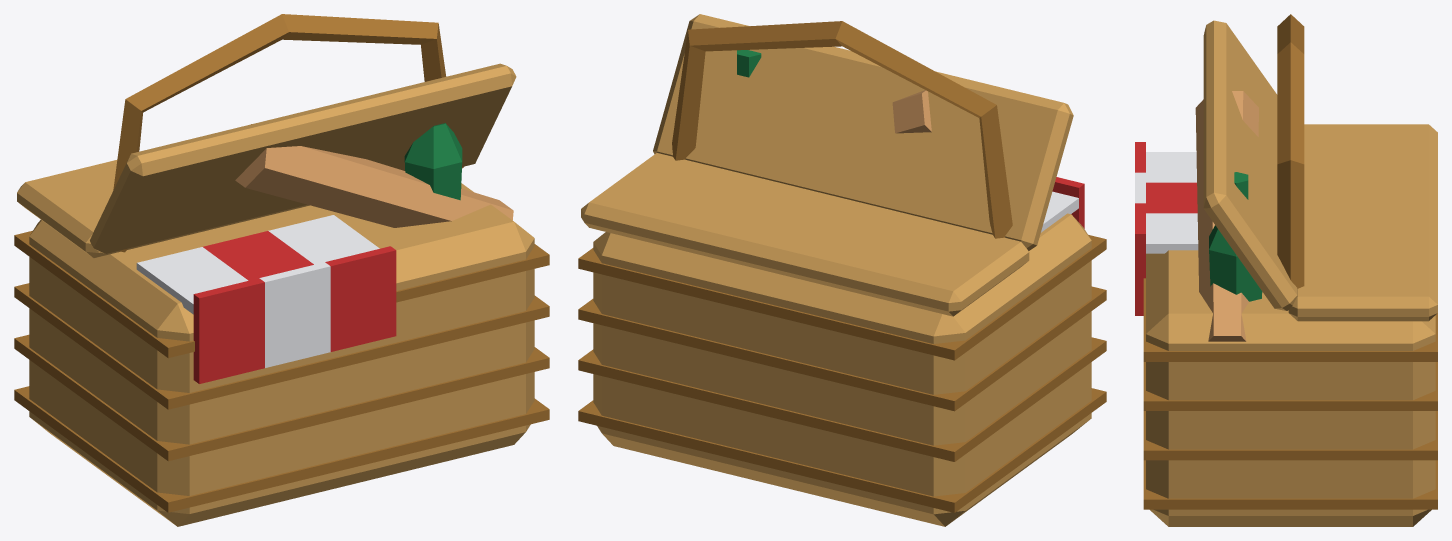
Rendered from picknickkorb.glb.
3 renders of one model, left to right at view 1: azimuth 30°, elevation 25°; view 2: azimuth 150°, elevation 25°; view 3: azimuth 270°, elevation 25°, orthographic. The views are drawn at different scales.
Visible parts, largest first — view 1: picknickkorb-m; view 2: picknickkorb-m; view 3: picknickkorb-m.
Part boxes in pixels (x1=…): picknickkorb-m: x1=14, y1=14, x2=549, y2=526; picknickkorb-m: x1=578, y1=14, x2=1106, y2=526; picknickkorb-m: x1=1135, y1=14, x2=1437, y2=526.
Size of the model in its own units: 0.47 by 0.495 by 0.3345.
